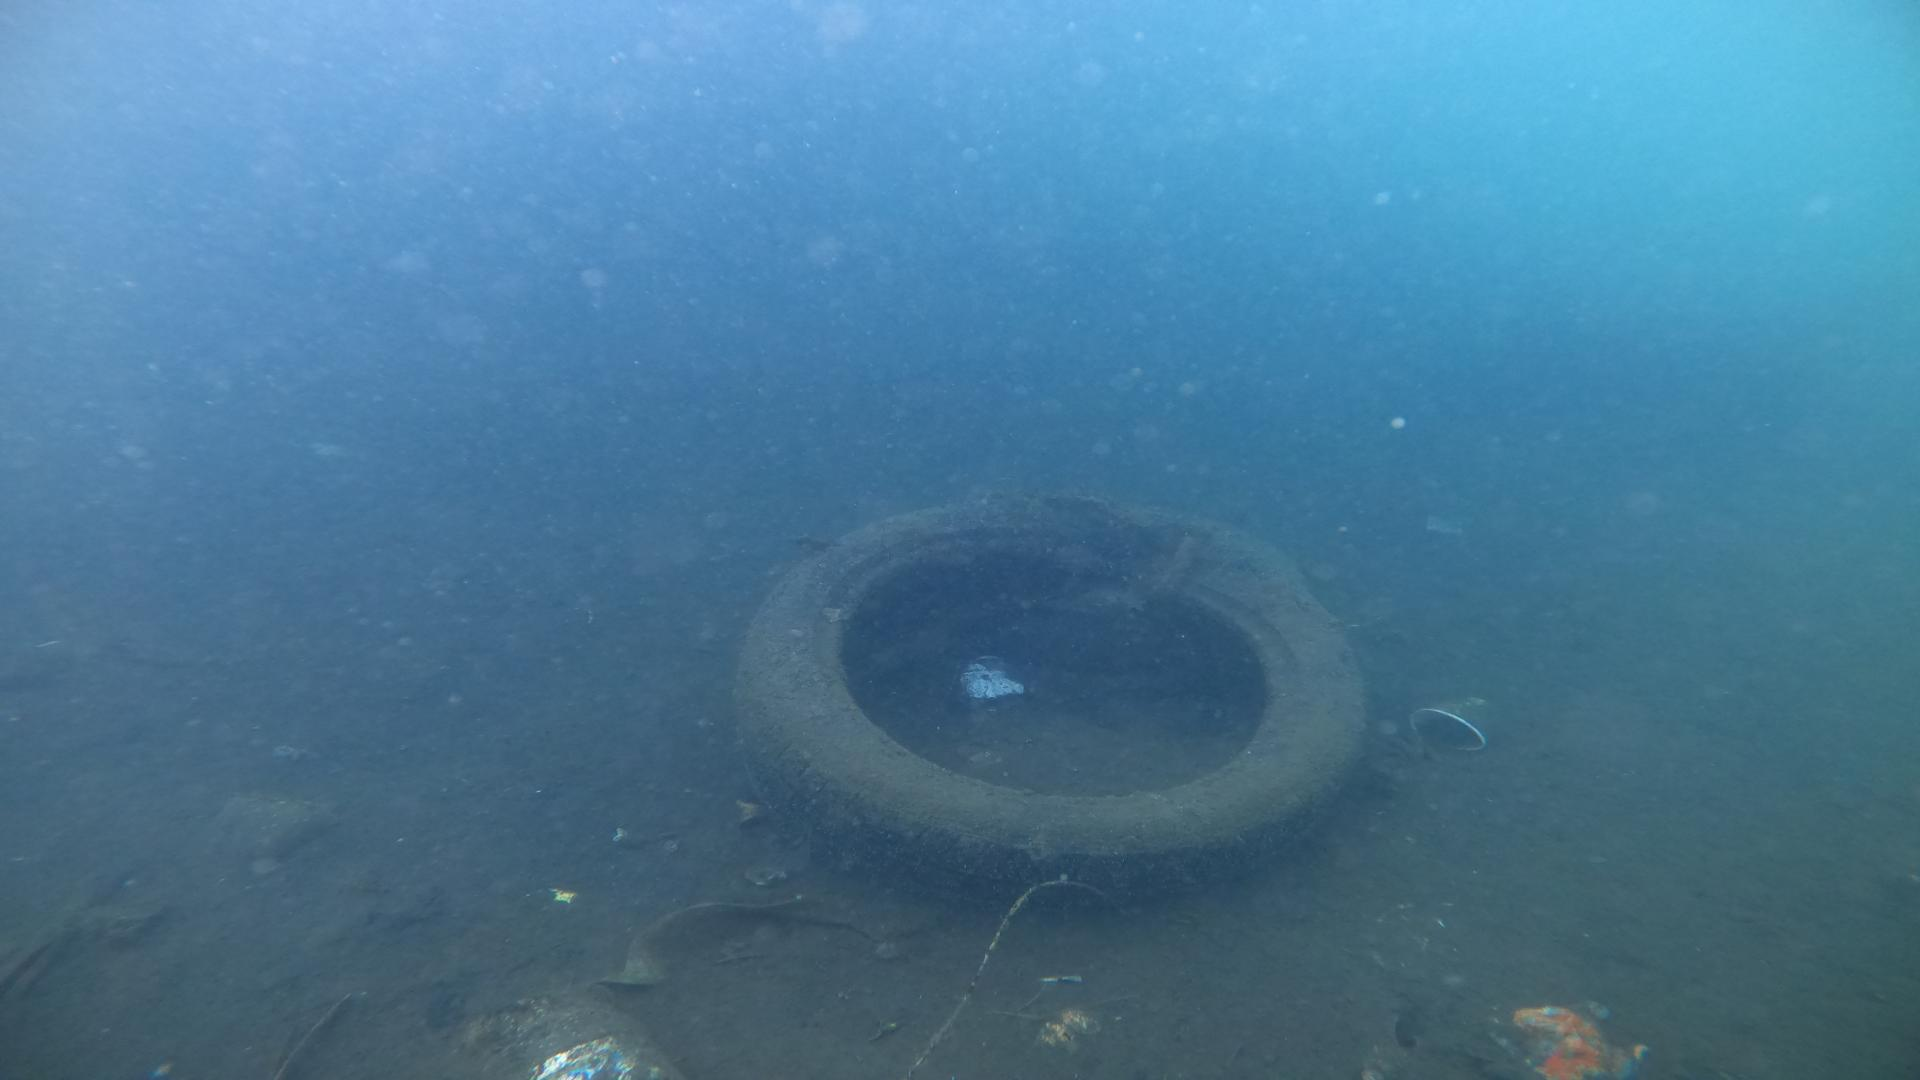tire: (740, 487, 1373, 897)
